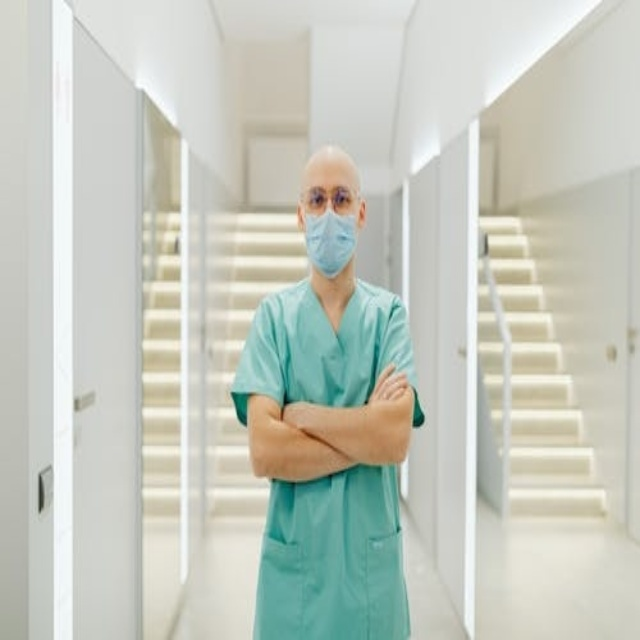Gafas: (301, 189, 362, 215)
Mascara: (303, 205, 358, 277)
Sin_guantes: (370, 362, 409, 407)
